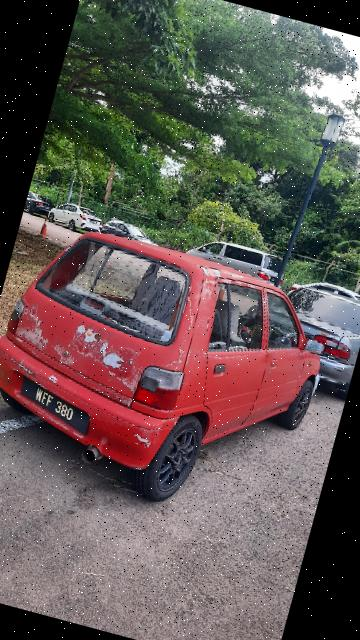License_Plate: (13, 375, 98, 438)
car: (1, 206, 345, 534), (255, 269, 360, 400)
